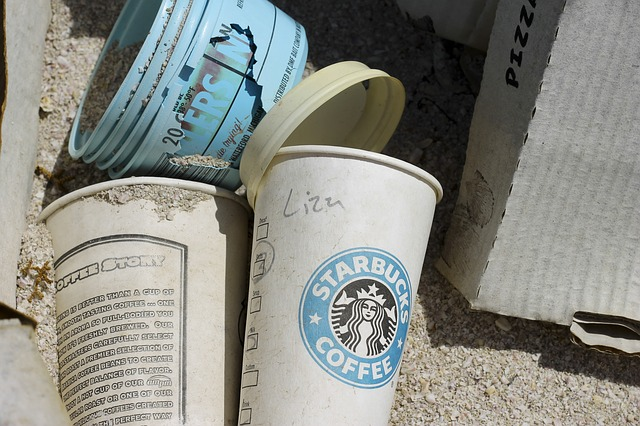cup: (244, 149, 452, 426), (33, 177, 250, 426)
